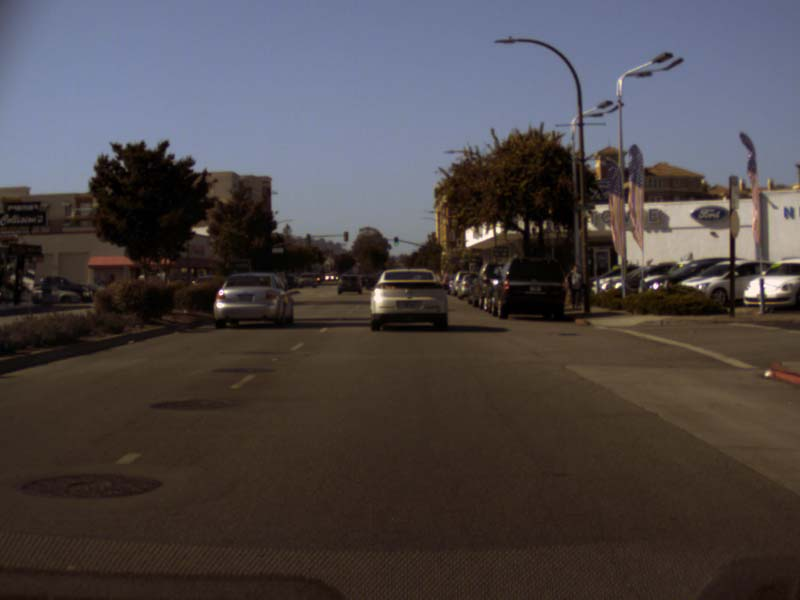Green: (394, 237, 398, 245)
